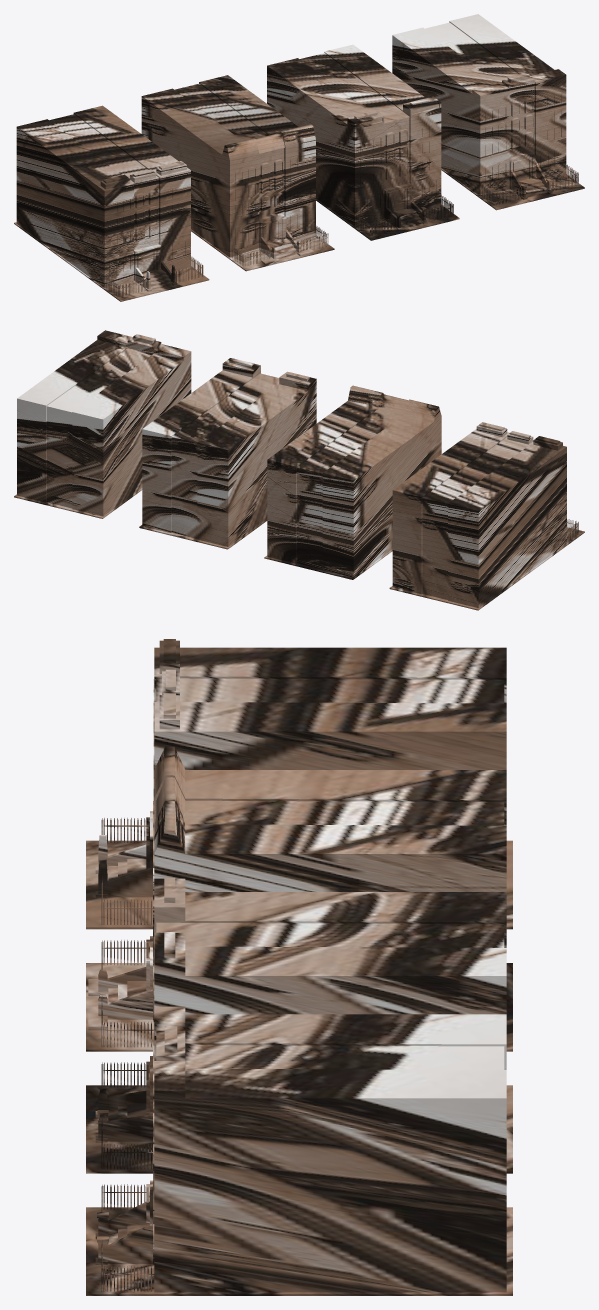
The model's file is brownstones.fbx.
The picture shows the model from 3 angles, top to bottom: view 1: azimuth 30°, elevation 25°; view 2: azimuth 150°, elevation 25°; view 3: azimuth 270°, elevation 25°; orthographic projection. The views are drawn at different scales.
Parts seen in each view (by area): view 1: brownstones; view 2: brownstones; view 3: brownstones.
Part boxes in pixels (<box>): brownstones: <box>14,14,584,301</box>; brownstones: <box>14,330,584,610</box>; brownstones: <box>86,639,512,1295</box>.
Size of the model in its own units: 1057 by 239 by 421.
Materials: 1 (1 with a texture image).
